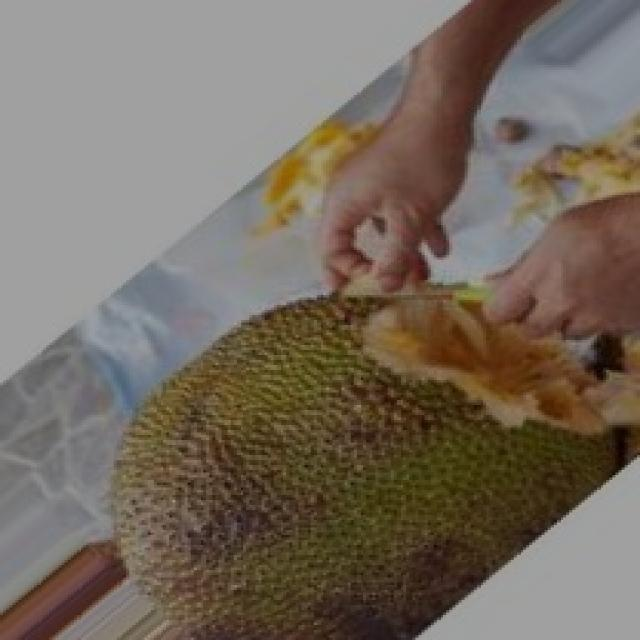Fruit: (234, 257, 640, 640)
